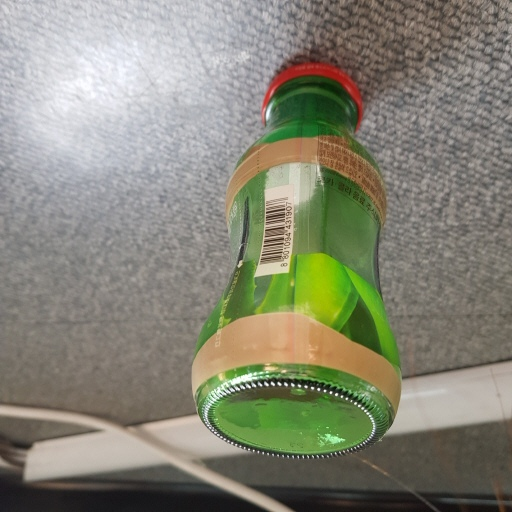Glass_4: (188, 62, 405, 458)
